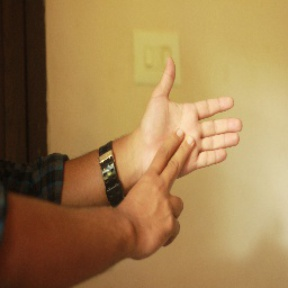N: (120, 50, 248, 266)
